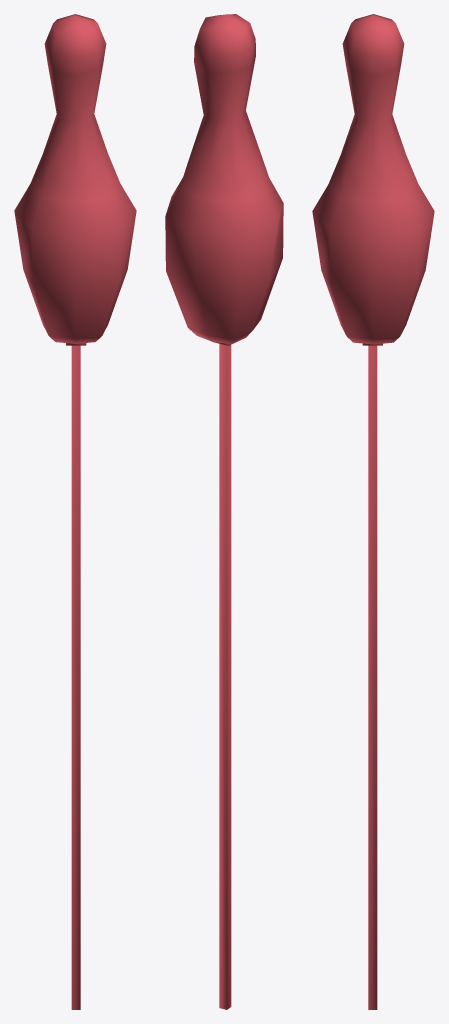
The model's file is bowling_pin_balloon.fbx.
The picture shows the model from 3 angles, left to right: view 1: azimuth 90°, elevation 25°; view 2: azimuth 150°, elevation 25°; view 3: azimuth 270°, elevation 25°; orthographic projection.
Parts seen in each view (by area): view 1: bowling_pin_balloon; view 2: bowling_pin_balloon; view 3: bowling_pin_balloon.
Boxes of the visible parts, x1,y1,x2,y2 form: bowling_pin_balloon: (14, 14, 136, 1009); bowling_pin_balloon: (165, 14, 283, 1009); bowling_pin_balloon: (312, 14, 434, 1009).
Bounding box in the file's own units: 0.2406 × 0.2406 × 2.15.
